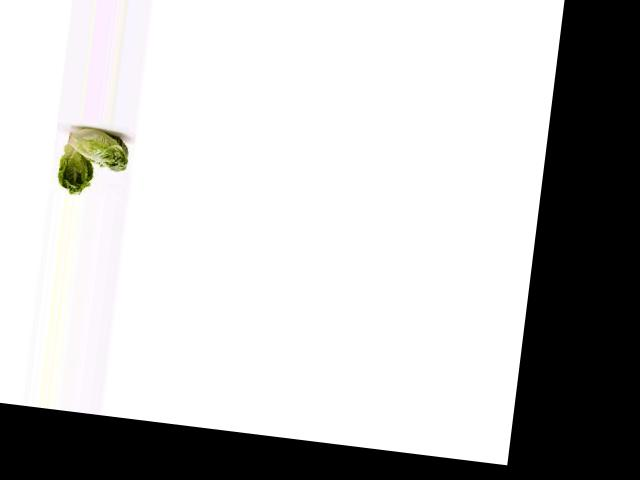lettuce: (60, 122, 135, 177)
